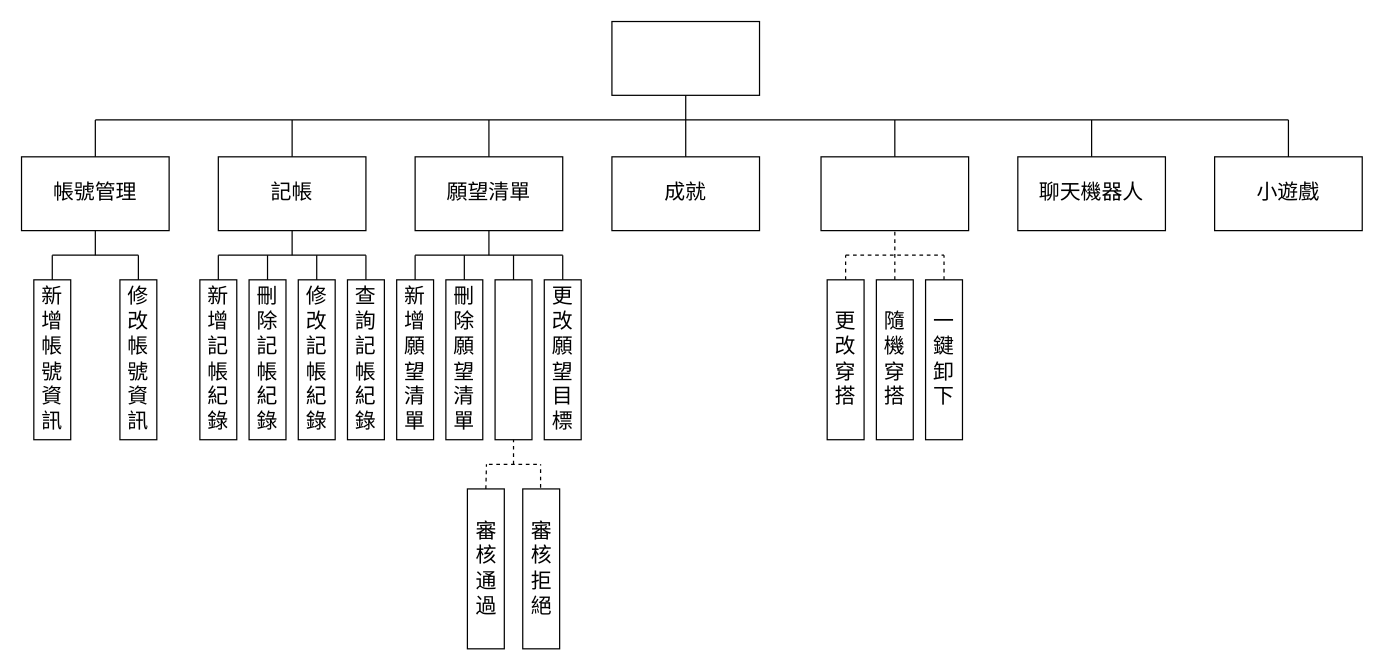
This 1384x670 diagram has some shape labels left out. Each missing label, with the centre of its shape:
審核願望清單: the point at 513,359
更衣室: the point at 894,193
記帳趣: the point at 685,57
